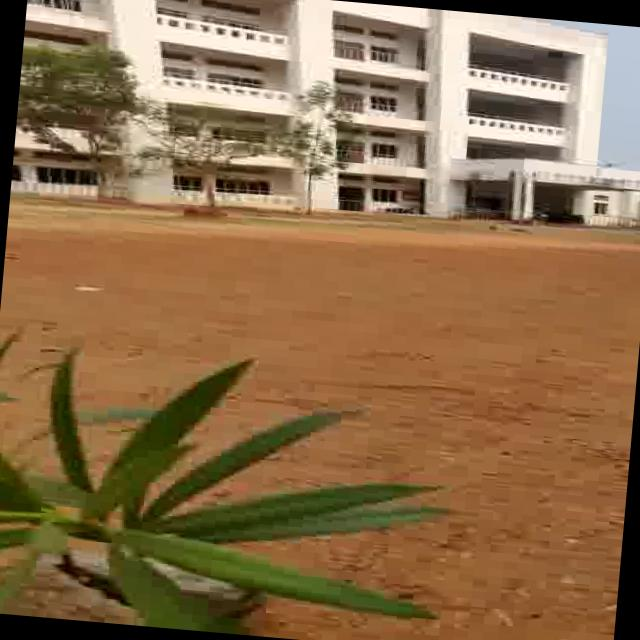Oleander: (0, 331, 466, 640)
